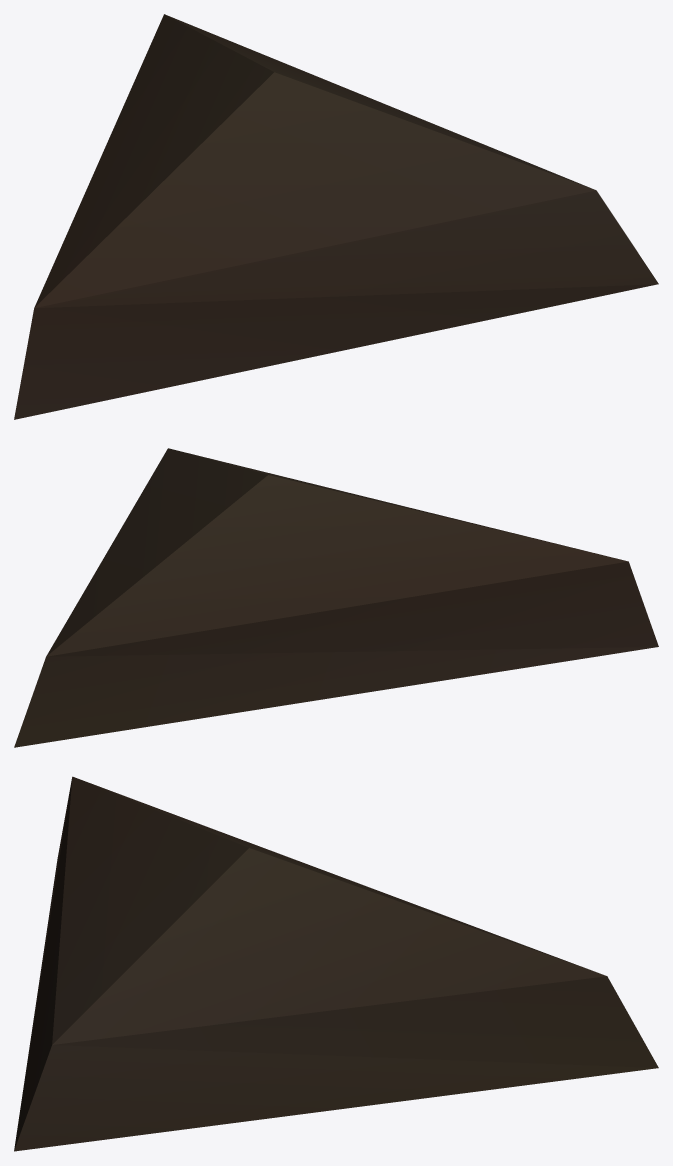
The model's file is cave_gravel.glb.
The picture shows the model from 3 angles, top to bottom: view 1: azimuth 30°, elevation 25°; view 2: azimuth 150°, elevation 25°; view 3: azimuth 270°, elevation 25°; orthographic projection. The views are drawn at different scales.
Visible parts, largest first — view 1: cave_gravel.glb; view 2: cave_gravel.glb; view 3: cave_gravel.glb.
Boxes of the visible parts, x1=… form: cave_gravel.glb: x1=14, y1=14, x2=658, y2=419; cave_gravel.glb: x1=14, y1=448, x2=658, y2=747; cave_gravel.glb: x1=14, y1=776, x2=658, y2=1151.
Size of the model in its own units: 1 by 0.3021 by 0.9307.
